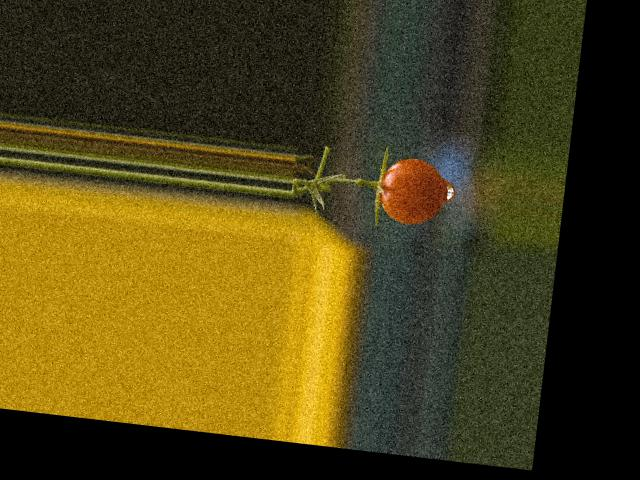tomato: (376, 154, 448, 227)
